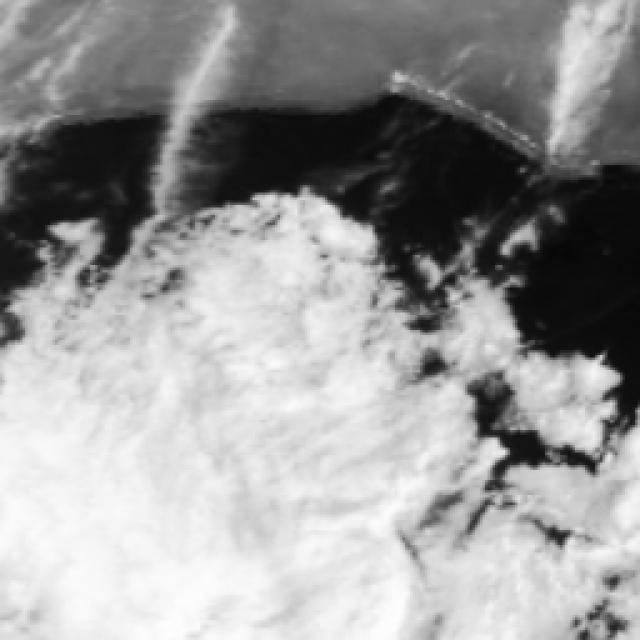CB: (182, 334, 372, 516), (244, 458, 415, 640), (9, 343, 189, 505), (132, 253, 326, 398), (0, 455, 127, 640), (130, 481, 272, 640), (412, 508, 559, 640)
